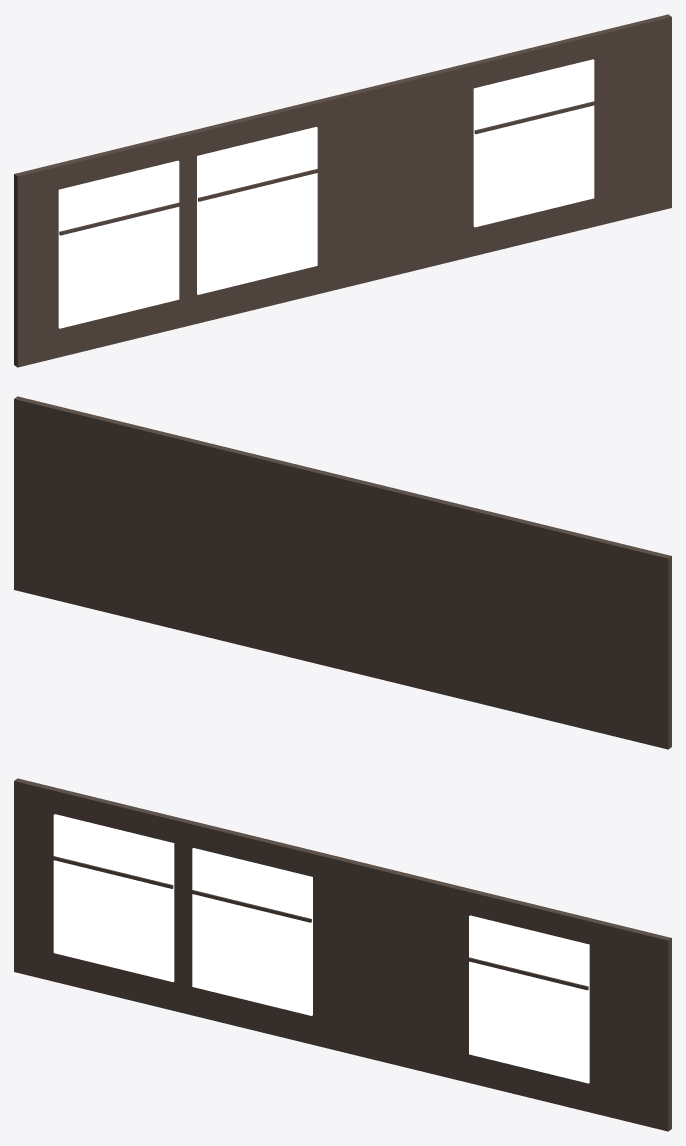
Rendered from escaparate_cafe.glb.
3 views of the same model, one above another, from view 1: azimuth 30°, elevation 25°; view 2: azimuth 150°, elevation 25°; view 3: azimuth 330°, elevation 25° (orthographic).
Parts seen in each view (by area): view 1: EscaparateCafe; view 2: EscaparateCafe; view 3: EscaparateCafe.
Part boxes in pixels (bbox=[...]): EscaparateCafe: bbox=[14, 14, 671, 367]; EscaparateCafe: bbox=[14, 396, 671, 749]; EscaparateCafe: bbox=[14, 778, 671, 1131].
Size of the model in its own units: 10.4 by 2.9 by 0.155.
